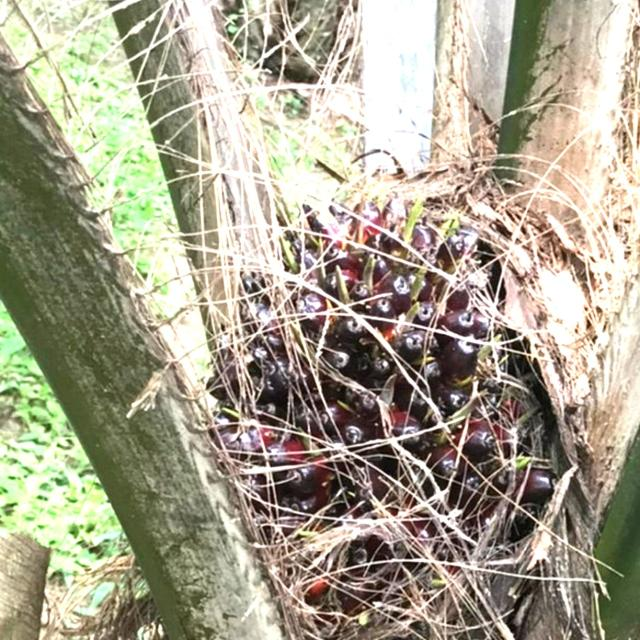ripe: (215, 166, 576, 590)
